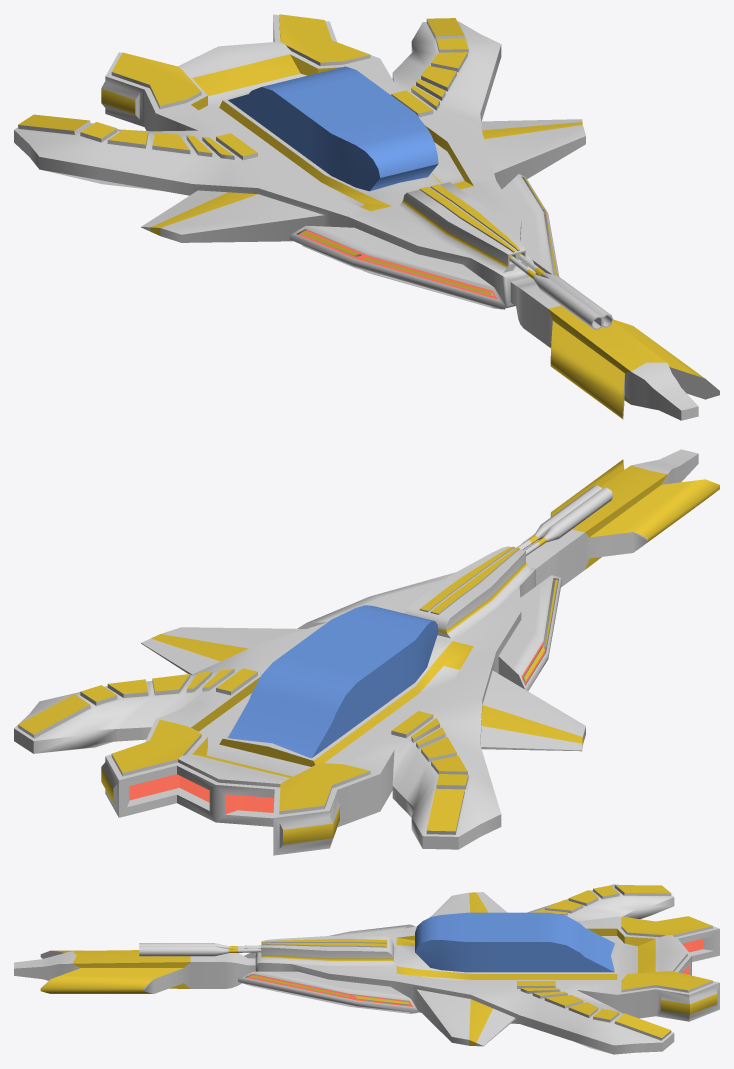
Rendered from StarShip_3.fbx.
3 views of the same model, one above another, from view 1: azimuth 30°, elevation 25°; view 2: azimuth 150°, elevation 25°; view 3: azimuth 270°, elevation 25° (orthographic). The views are drawn at different scales.
Visible parts, largest first — view 1: StarShip_3; view 2: StarShip_3; view 3: StarShip_3.
Boxes of the visible parts, bbox=[...] form: StarShip_3: bbox=[14, 14, 719, 420]; StarShip_3: bbox=[14, 449, 719, 855]; StarShip_3: bbox=[14, 884, 719, 1054].
Bounding box in the file's own units: 1027 × 167 × 1903.
